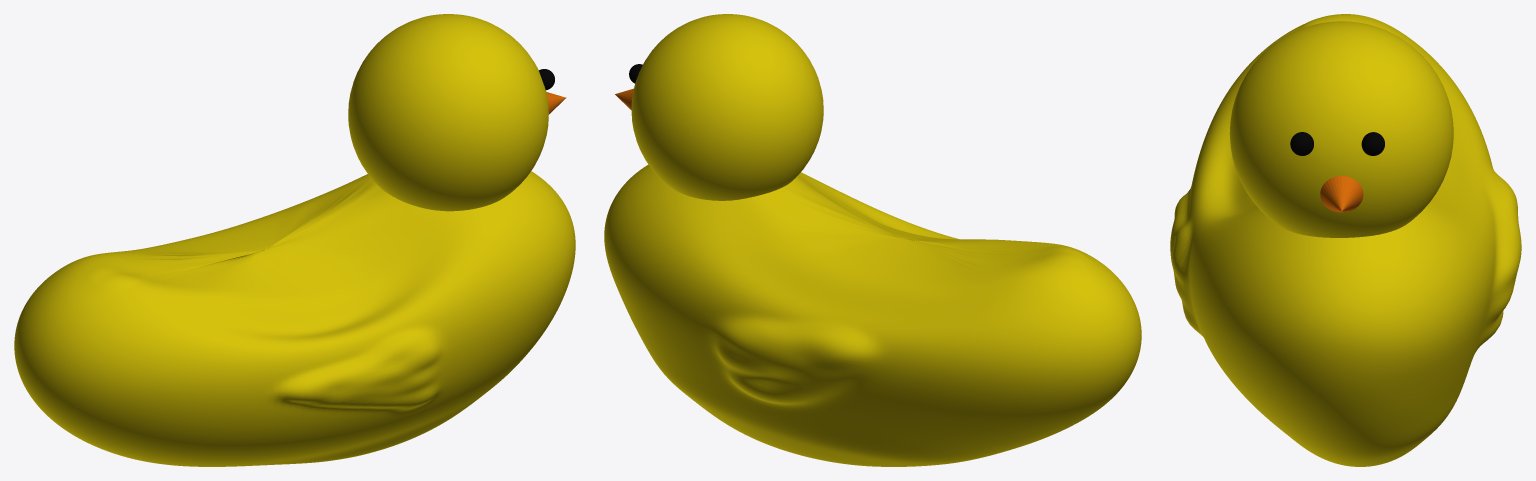
Rendered from poussin.fbx.
3 views of the same model, side by side, from view 1: azimuth 30°, elevation 25°; view 2: azimuth 150°, elevation 25°; view 3: azimuth 270°, elevation 25° (orthographic). The views are drawn at different scales.
Parts seen in each view (by area): view 1: Cube, Sphere; view 2: Cube, Sphere; view 3: Cube, Sphere, Cone, Sphere.002, Sphere.001.
Part boxes in pixels (x1,y1,x2,y2): Cube: (14,171,575,466); Sphere: (348,14,548,211); Cube: (604,164,1141,466); Sphere: (631,14,823,200); Cube: (1170,14,1521,466); Sphere: (1229,21,1453,237); Cone: (1320,176,1363,212); Sphere.002: (1290,132,1313,155); Sphere.001: (1361,132,1384,155).
Size of the model in its own units: 621 by 440 by 314.
